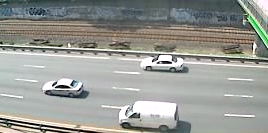car: (115, 98, 184, 132), (138, 52, 186, 75), (41, 76, 87, 98)
